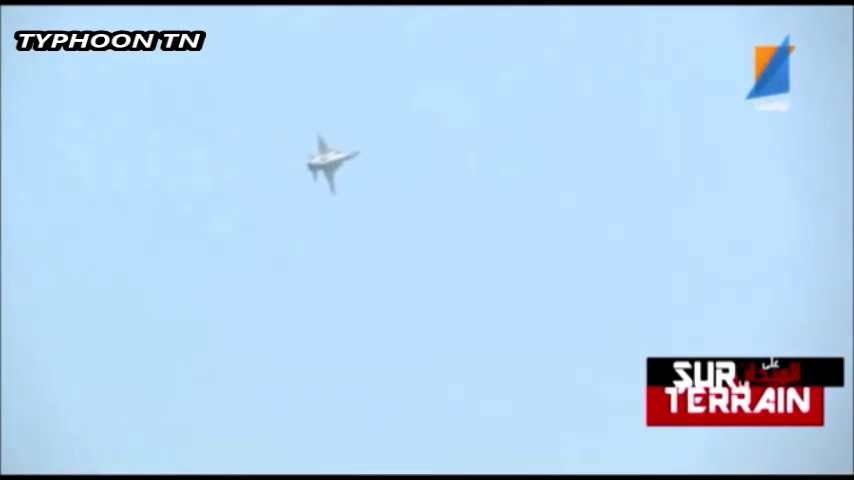Airplane: (307, 134, 362, 194)
